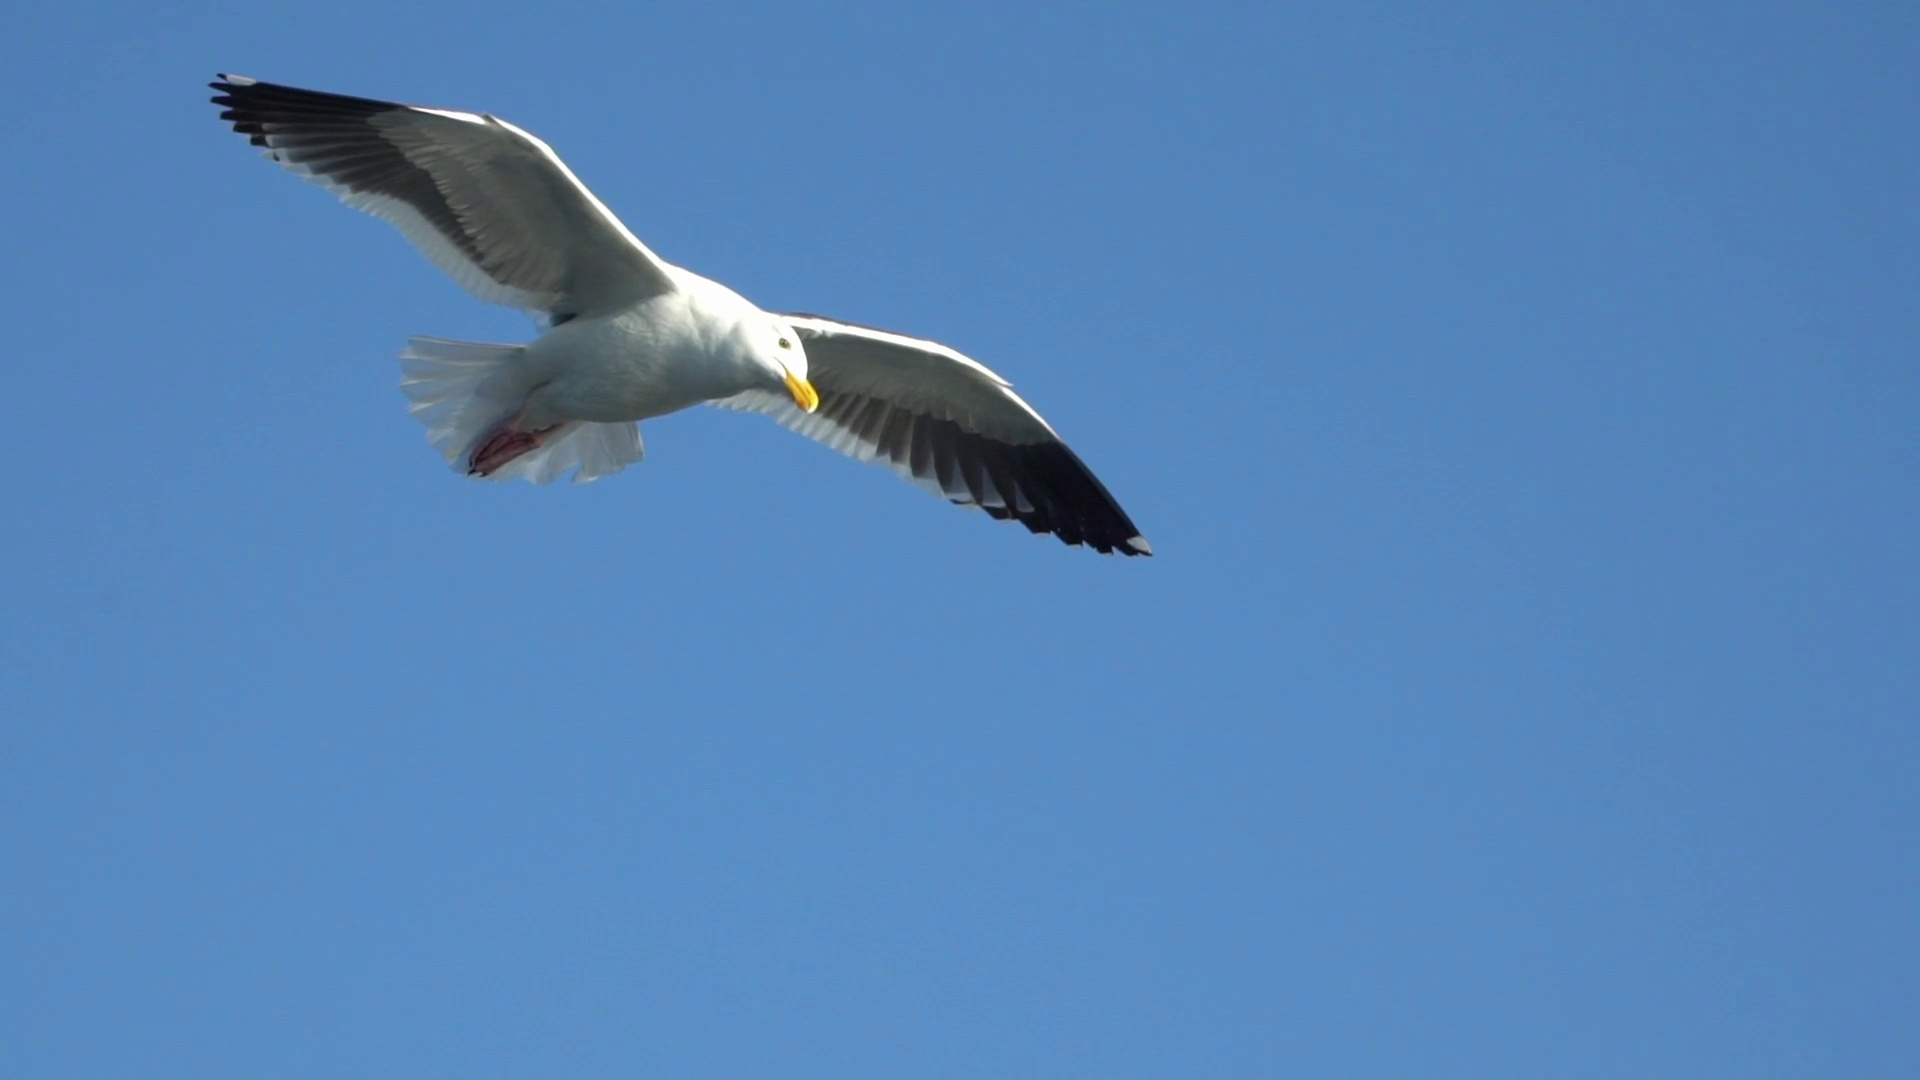bird: (204, 71, 1149, 560)
